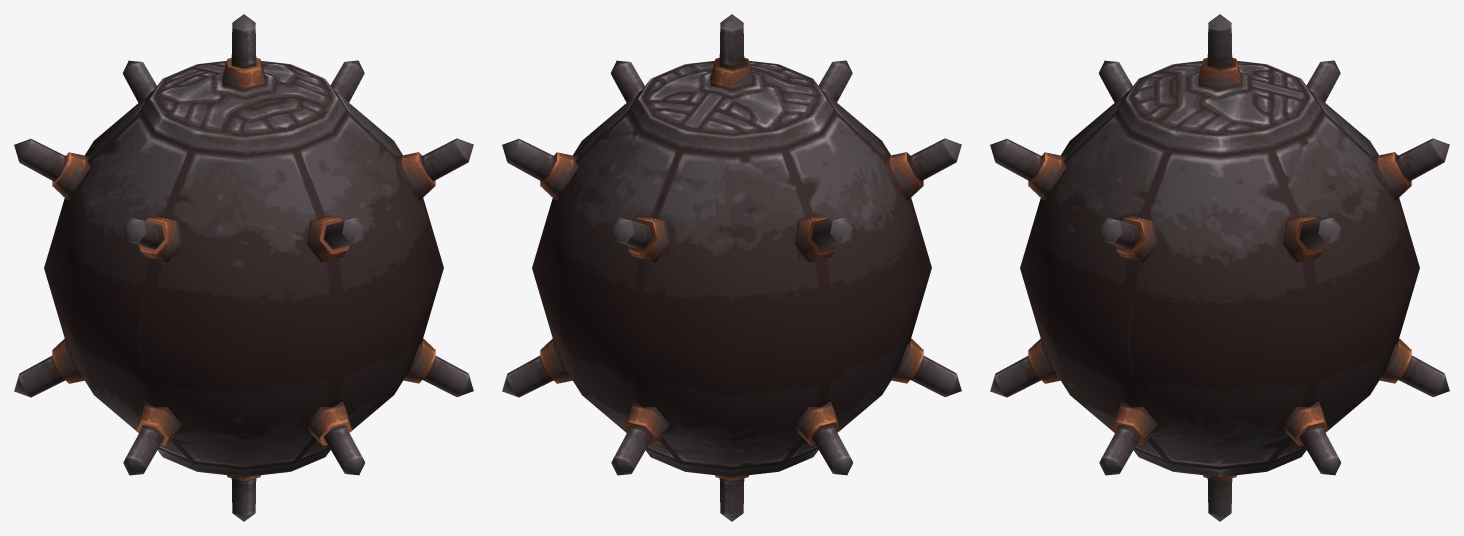
The model's file is dwarf_bomb_crawler_9823eb66.glb.
3 views of the same model, side by side, from view 1: azimuth 30°, elevation 25°; view 2: azimuth 150°, elevation 25°; view 3: azimuth 270°, elevation 25° (orthographic).
Size of the model in its own units: 1.66 by 2.33 by 1.91.
Materials: 1 (1 with a texture image).
